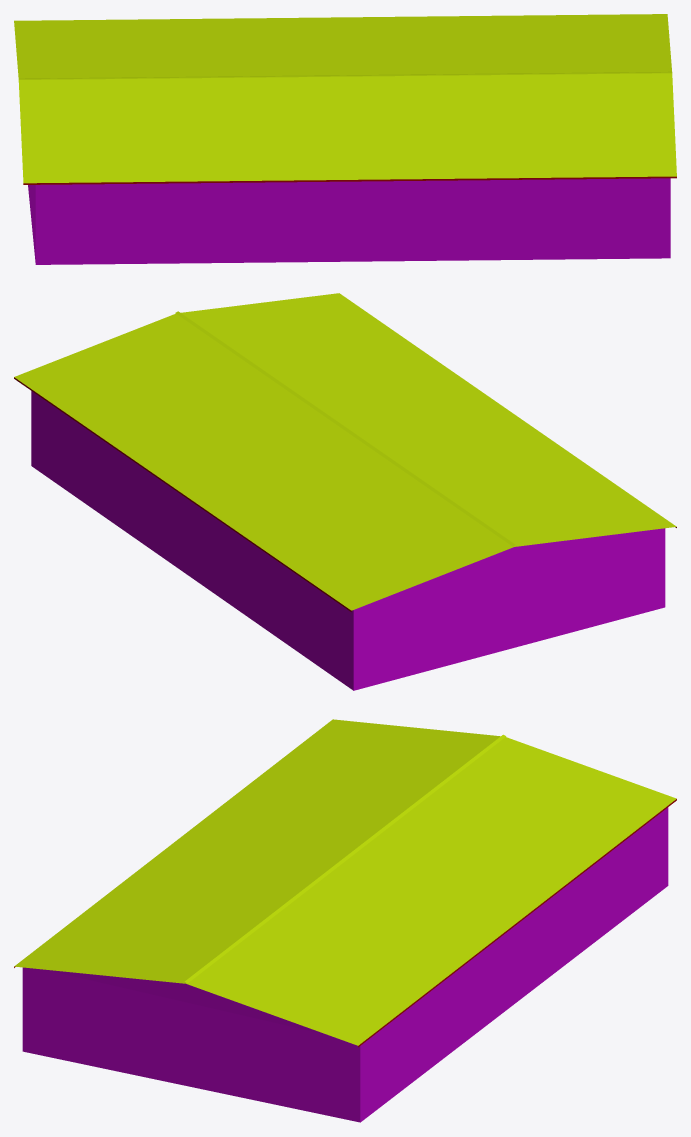
File: mtg_3.glb
The picture shows the model from 3 angles, top to bottom: view 1: azimuth 30°, elevation 25°; view 2: azimuth 150°, elevation 25°; view 3: azimuth 270°, elevation 25°; orthographic projection. The views are drawn at different scales.
Parts seen in each view (by area): view 1: mtg_3; view 2: mtg_3; view 3: mtg_3.
Part boxes in pixels (x1,y1,x2,y2): mtg_3: (14,14,676,264); mtg_3: (14,293,676,690); mtg_3: (14,719,676,1122).
Bounding box in the file's own units: 48.47 × 7.63 × 41.6.
